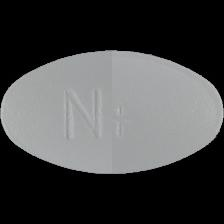51655-400: (0, 0, 224, 224)
